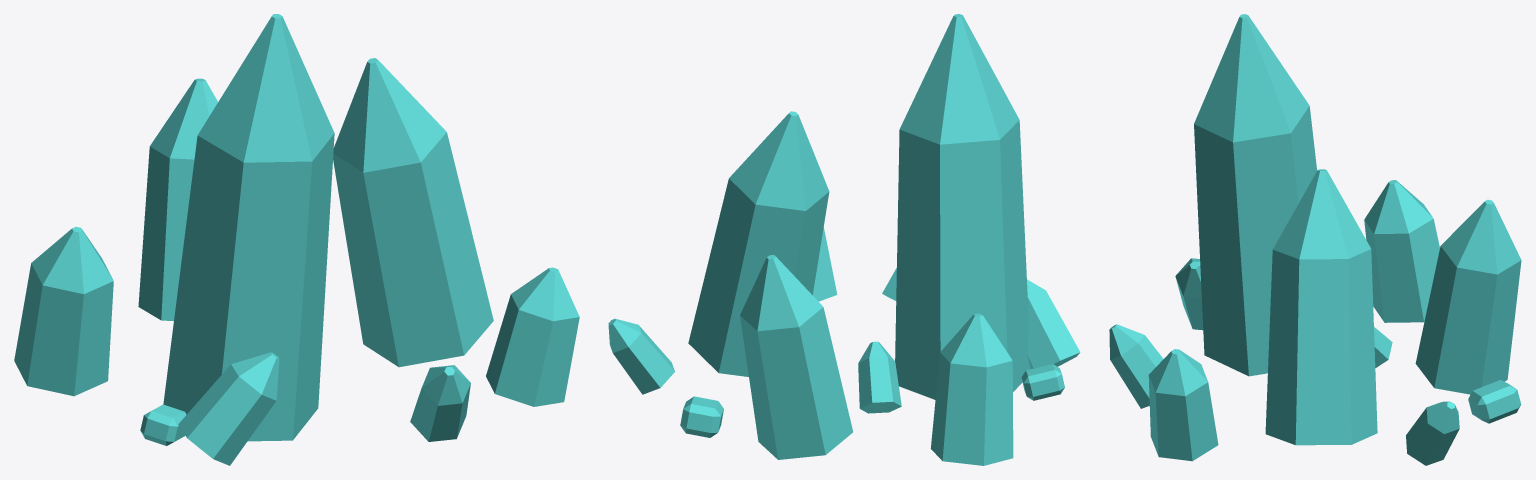
File: ore_crystal.glb
3 renders of one model, left to right at view 1: azimuth 30°, elevation 25°; view 2: azimuth 150°, elevation 25°; view 3: azimuth 270°, elevation 25°, orthographic. The views are drawn at different scales.
Parts seen in each view (by area): view 1: ore_crystal; view 2: ore_crystal; view 3: ore_crystal.
Boxes of the visible parts, x1,y1,x2,y2 form: ore_crystal: [14, 14, 579, 465]; ore_crystal: [608, 14, 1080, 465]; ore_crystal: [1109, 14, 1521, 465].
Bounding box in the file's own units: 0.4553 × 0.408 × 0.4409.
